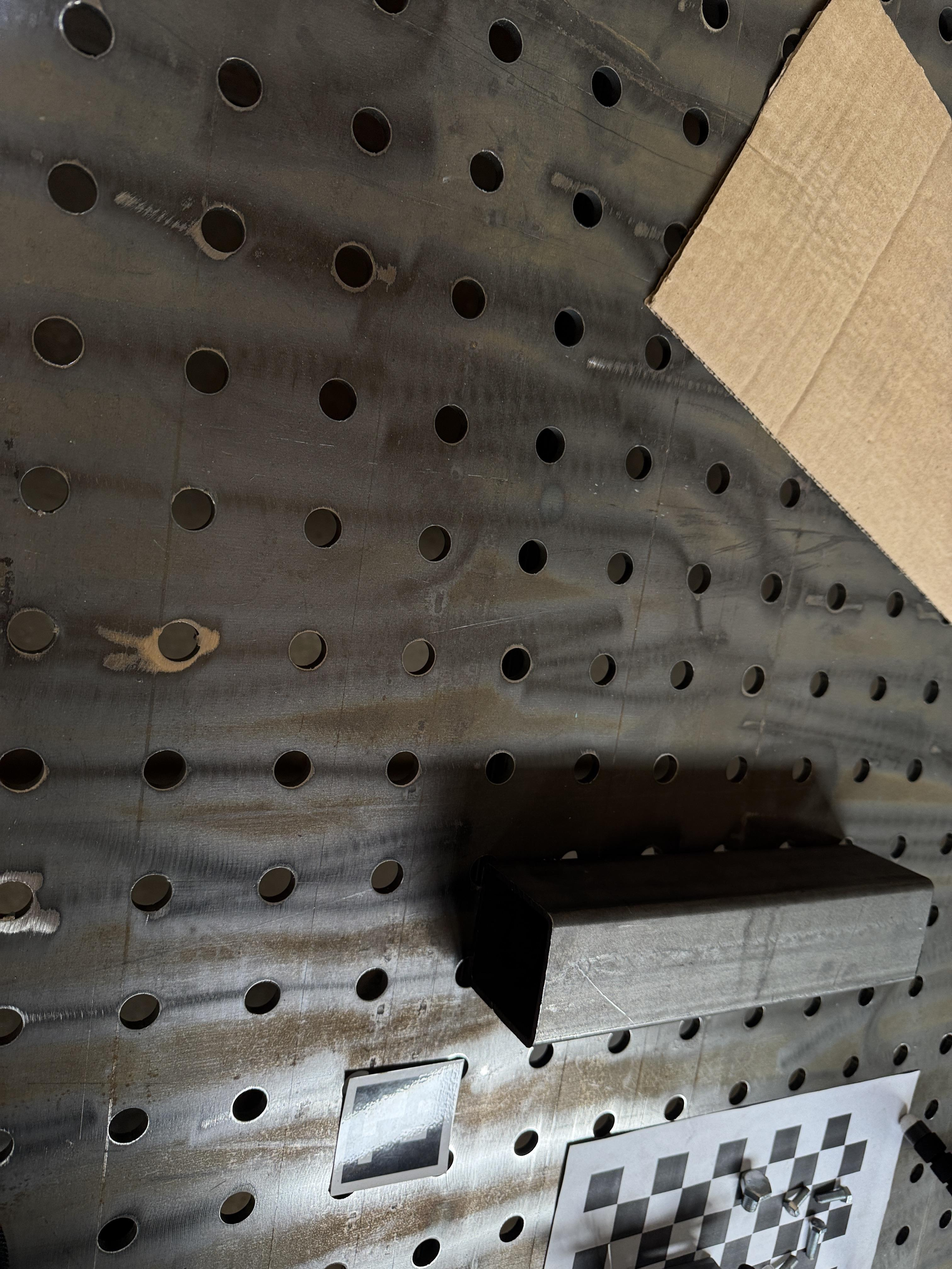detail: (465, 842, 935, 1048)
